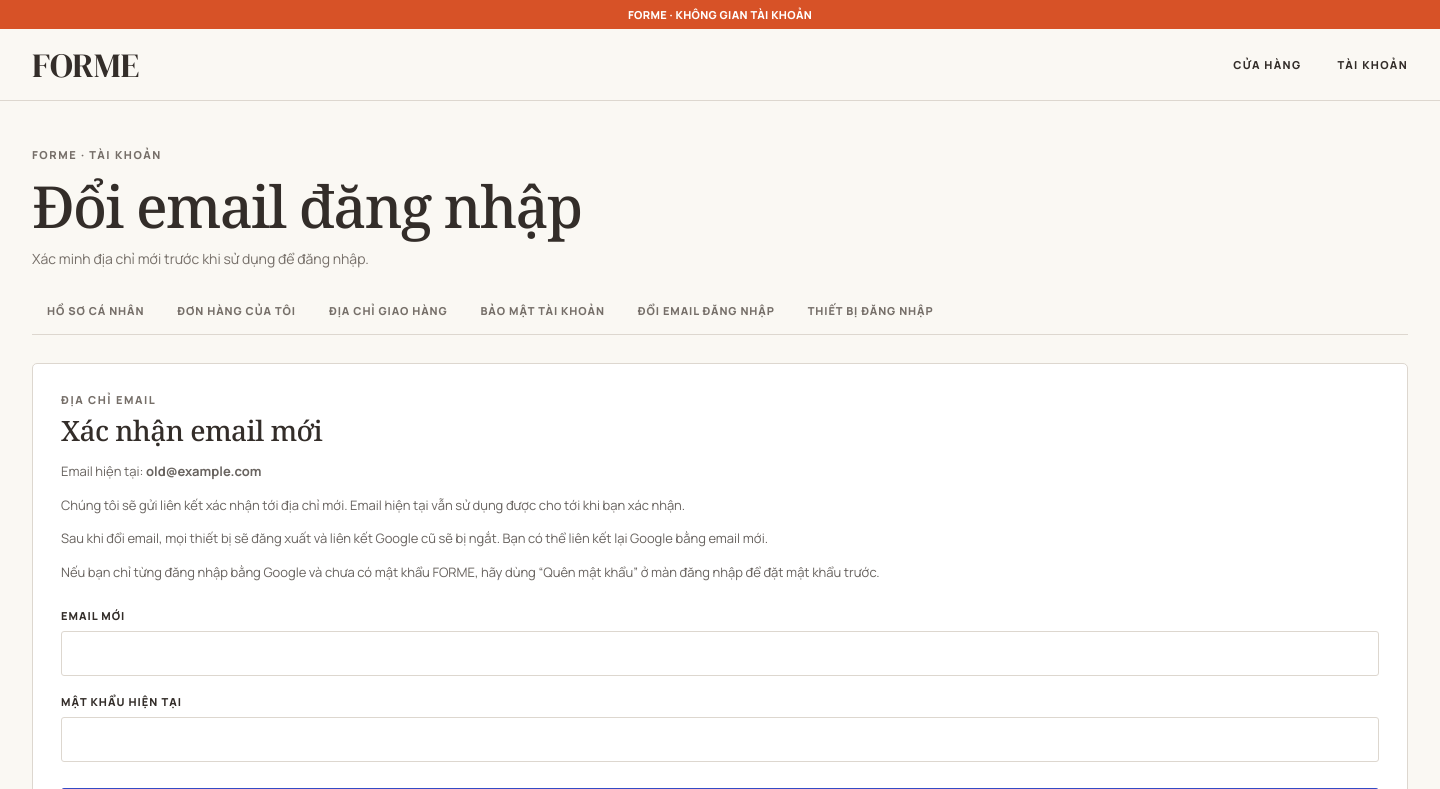
requests email change with the current password and explains session revocation
Expected: the text "old@example.com" is shown, x1=146 y1=462 x2=261 y2=480
Expected: the text "mọi thiết bị sẽ đăng xuất" is shown, x1=61 y1=530 x2=768 y2=548
In the field labelled "EMAIL MỚI": (720,654) x1=61 y1=631 x2=1379 y2=676, type "new@example.com"
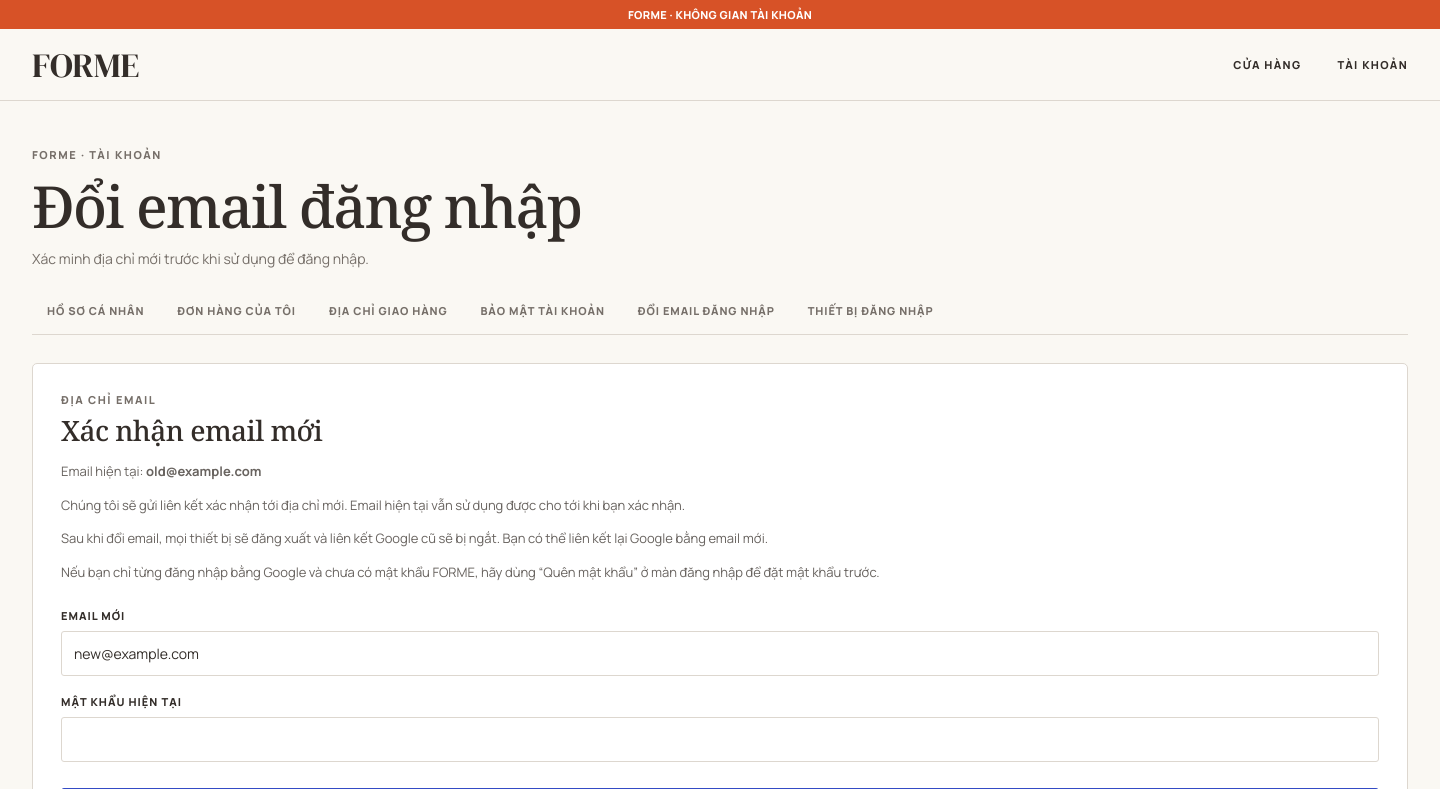
In the password field labelled "MẬT KHẨU HIỆN TẠI": (720,740) x1=61 y1=717 x2=1379 y2=762, type "Password123"
(page scrolled)
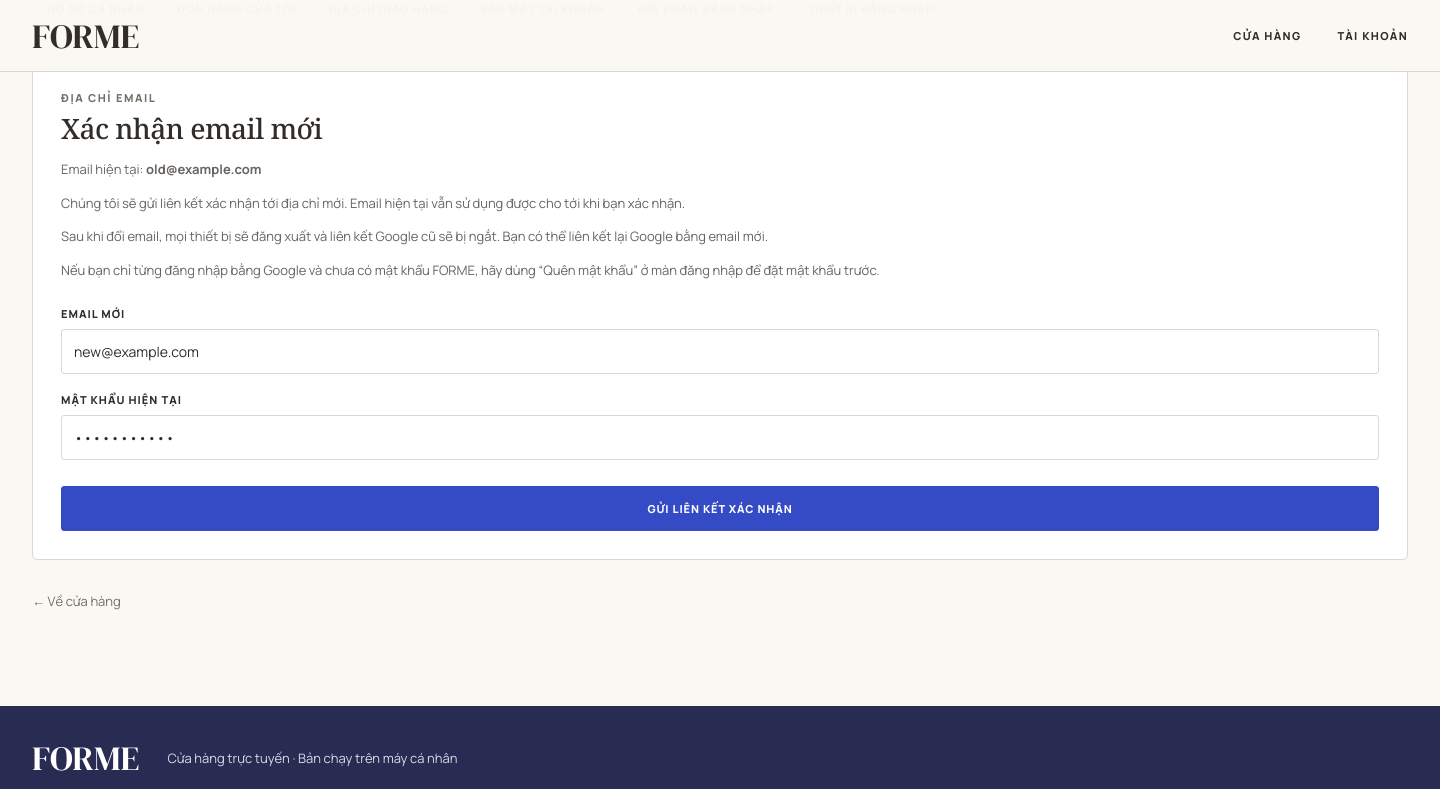
Click the button "Gửi liên kết xác nhận": (720,508) x1=61 y1=486 x2=1379 y2=531
(page scrolled)
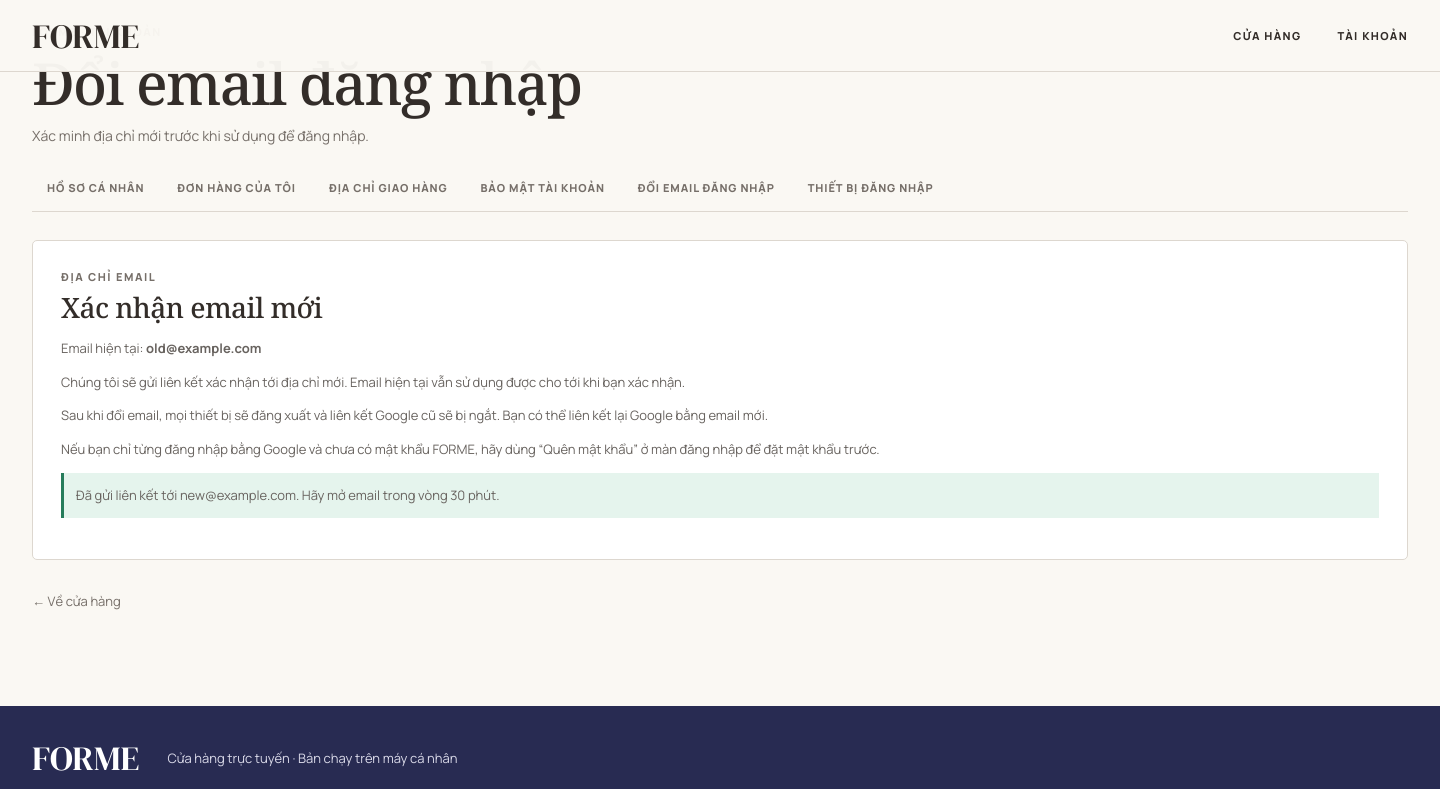
Expected: the message shows "new@example.com", x1=180 y1=486 x2=296 y2=504
Expected: the label labelled "MẬT KHẨU HIỆN TẠI" is gone
